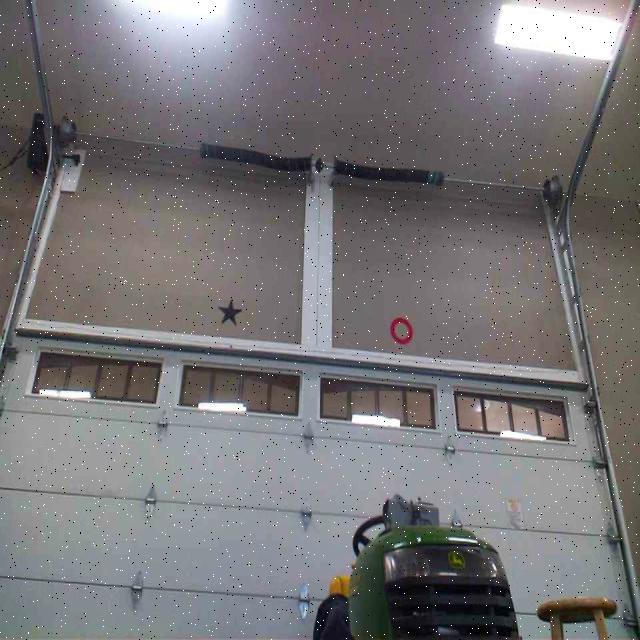ring_red: (389, 317, 413, 343)
star_black: (218, 298, 241, 324)
